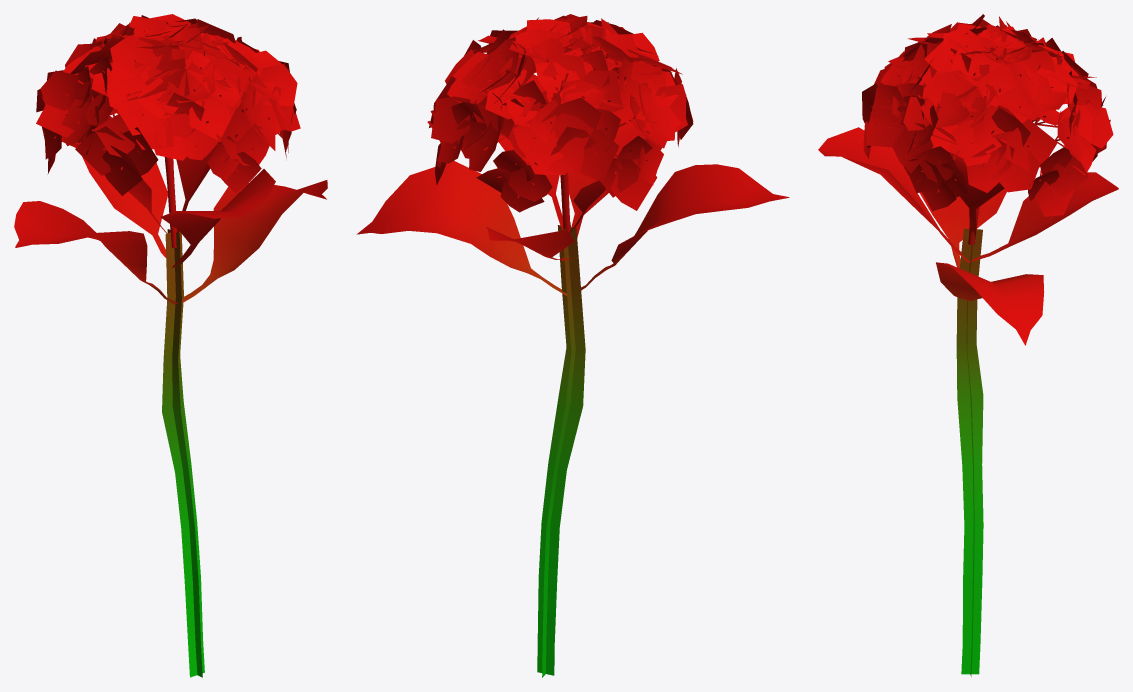
Rendered from Var10_LOD2.fbx.
3 views of the same model, side by side, from view 1: azimuth 30°, elevation 25°; view 2: azimuth 150°, elevation 25°; view 3: azimuth 270°, elevation 25° (orthographic). The views are drawn at different scales.
Visible parts, largest first — view 1: _0p57_Var10_LOD2; view 2: _0p57_Var10_LOD2; view 3: _0p57_Var10_LOD2.
Part boxes in pixels (x1,y1,x2,y2): _0p57_Var10_LOD2: (14, 14, 327, 677); _0p57_Var10_LOD2: (356, 14, 789, 677); _0p57_Var10_LOD2: (818, 14, 1118, 676).
Bounding box in the file's own units: 30.61 × 51.33 × 22.21.
